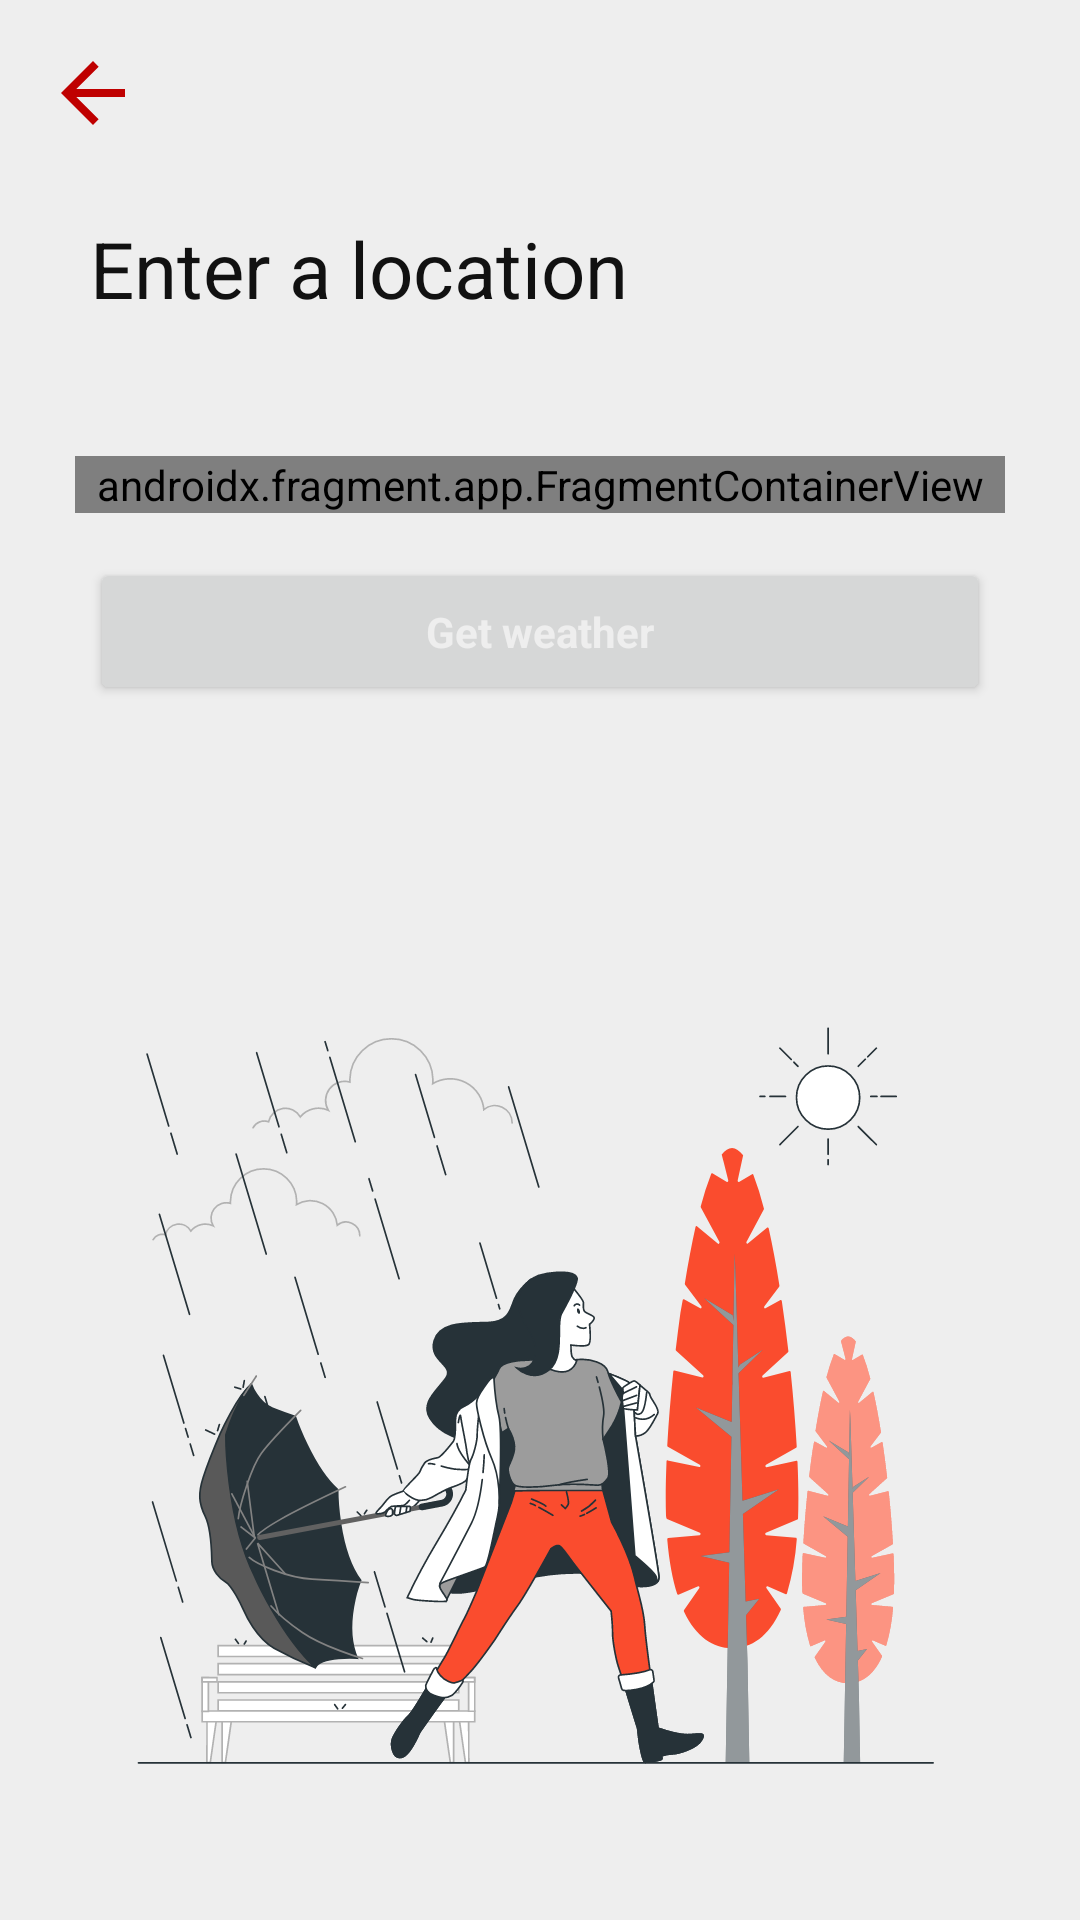

Screen size 1080×1920. Icon name, then its center in pixels as [x,y]:
arrow back: [93,93]
